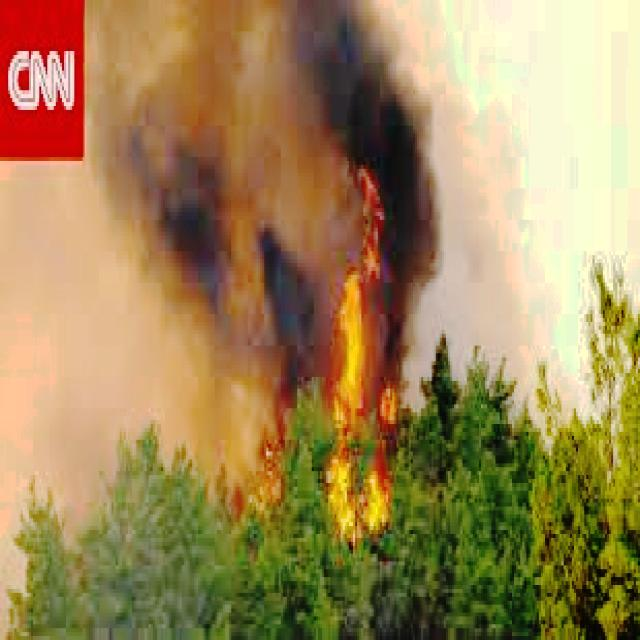api: (331, 455, 392, 539), (340, 277, 365, 437), (362, 177, 382, 278), (383, 390, 399, 433)
asap: (93, 2, 338, 408), (391, 170, 546, 353), (345, 2, 490, 167)
